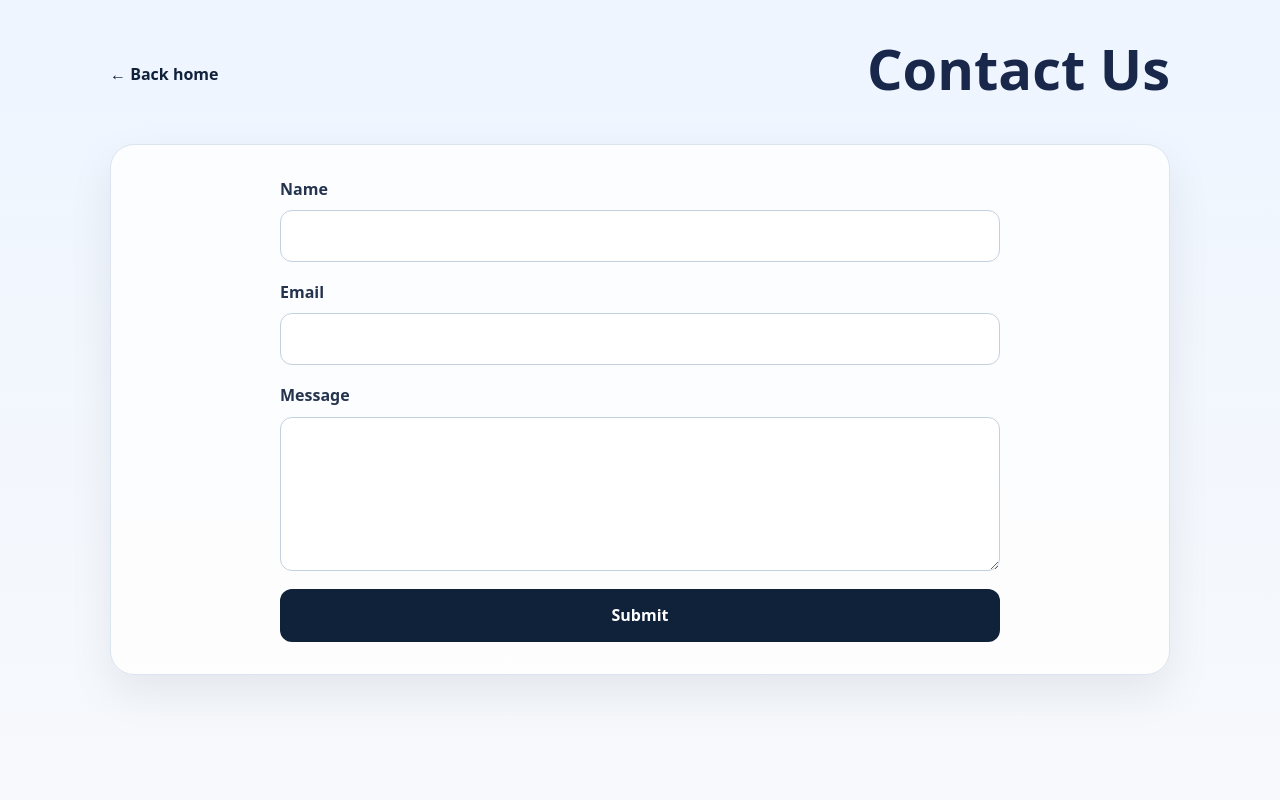
Test: ContactPage › shows validation errors when submitting an invalid form
Click the button "Submit" at (640, 615), box 280,588 -> 1000,642
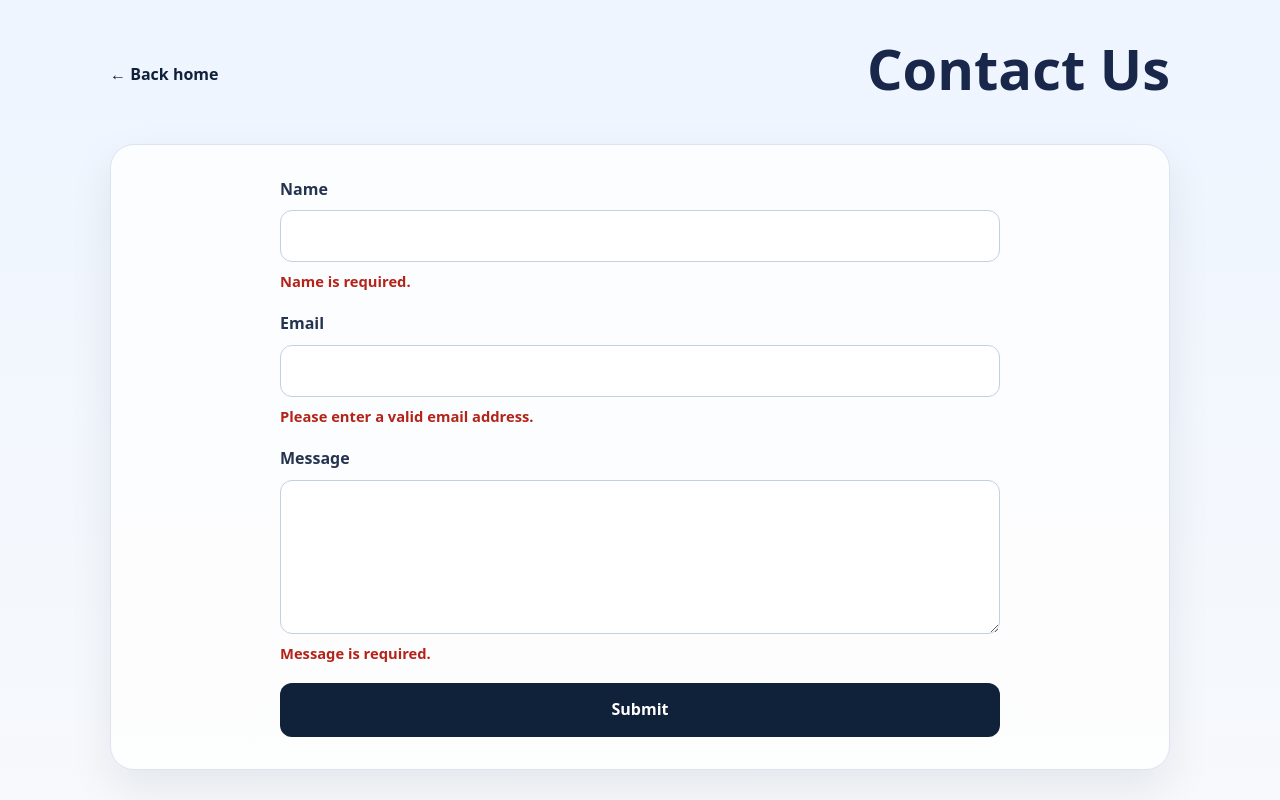
Expected: the text "Name is required." is shown, 280,271 -> 411,291
